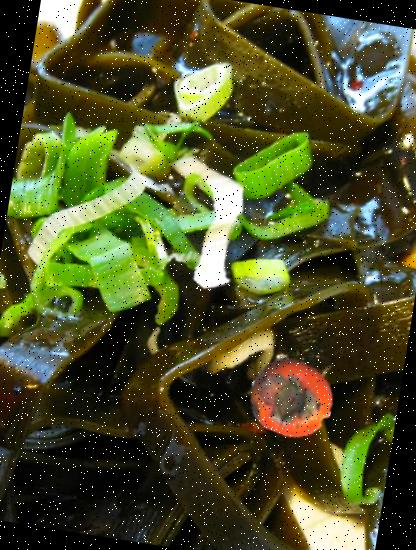Kaki: (244, 350, 340, 446)
